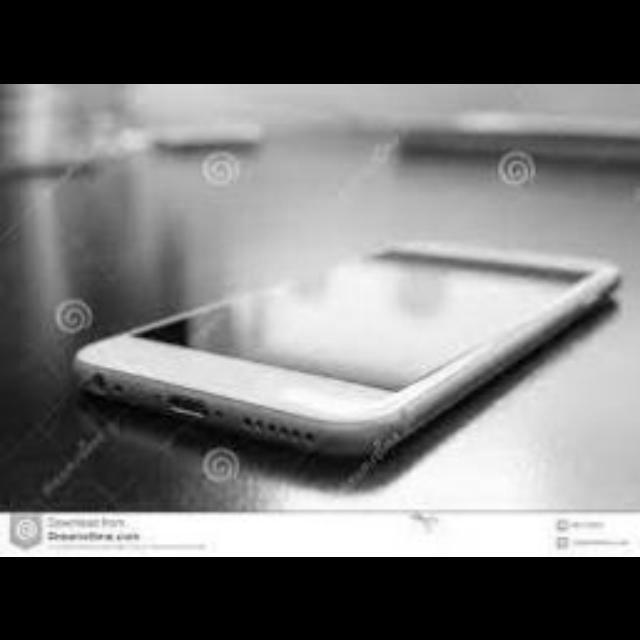fake: (32, 163, 620, 492)
